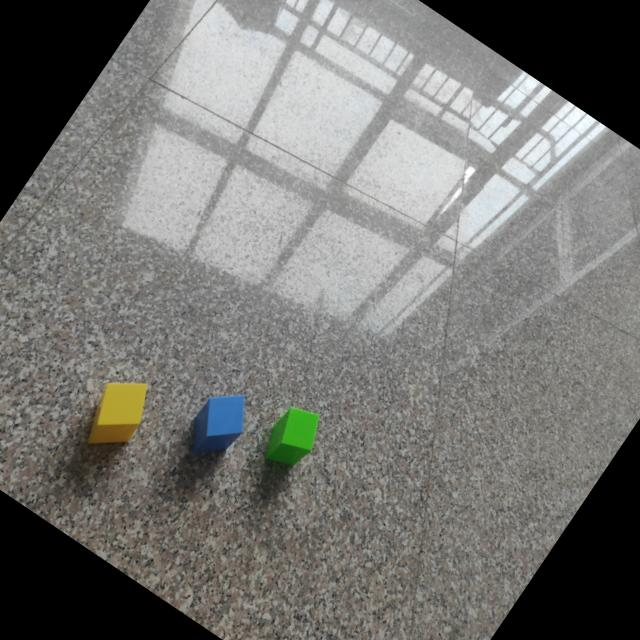blue: (188, 395, 245, 458)
green: (263, 409, 319, 470)
yellow: (86, 383, 147, 449)
